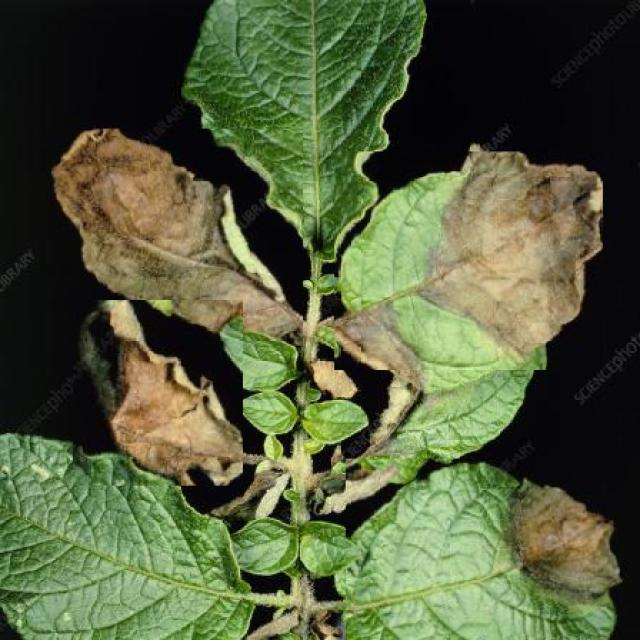Late Blight: (335, 151, 604, 370), (45, 129, 304, 345), (346, 458, 623, 640), (73, 300, 243, 486)
